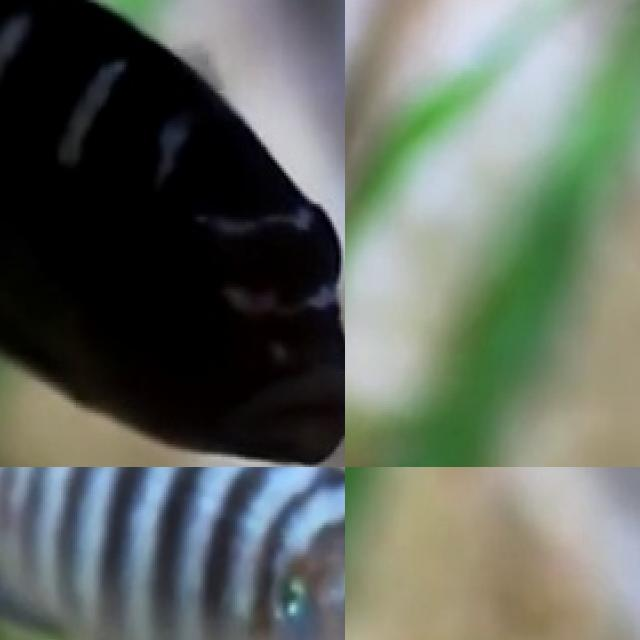fish: (0, 0, 345, 467), (0, 467, 345, 640)
